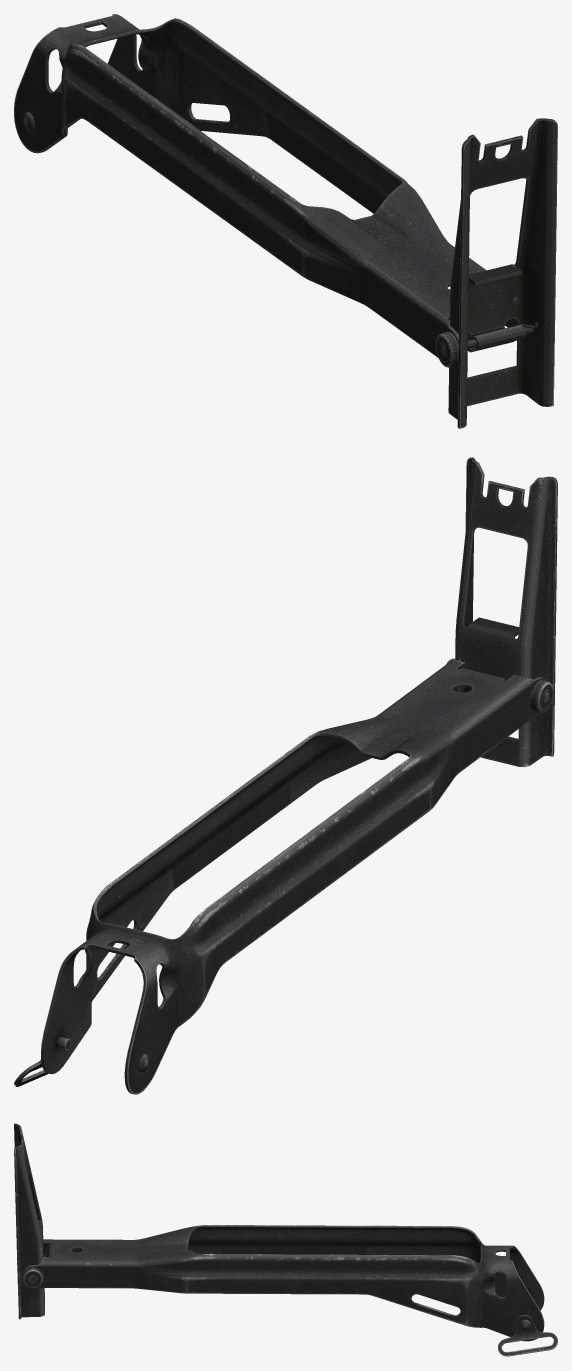
3 renders of one model, top to bottom at view 1: azimuth 30°, elevation 25°; view 2: azimuth 150°, elevation 25°; view 3: azimuth 270°, elevation 25°, orthographic. The views are drawn at different scales.
Visible parts, largest first — view 1: TW_62e292e7b6c0ee2f230cee00_PZ_Import; view 2: TW_62e292e7b6c0ee2f230cee00_PZ_Import; view 3: TW_62e292e7b6c0ee2f230cee00_PZ_Import.
Part boxes in pixels (x1=…): TW_62e292e7b6c0ee2f230cee00_PZ_Import: x1=14, y1=14, x2=557, y2=428; TW_62e292e7b6c0ee2f230cee00_PZ_Import: x1=14, y1=457, x2=557, y2=1094; TW_62e292e7b6c0ee2f230cee00_PZ_Import: x1=14, y1=1123, x2=557, y2=1356.
Size of the model in its own units: 0.0251 by 0.1587 by 0.0652.
1 material, 1 textured.
